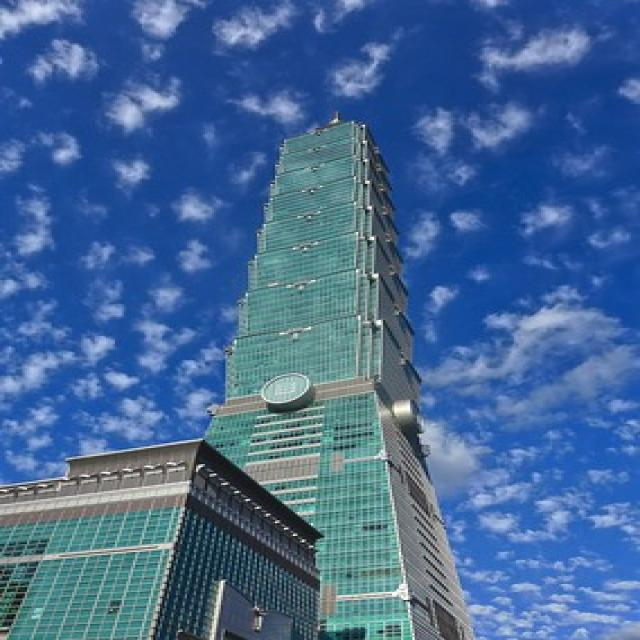building: (205, 118, 473, 640)
